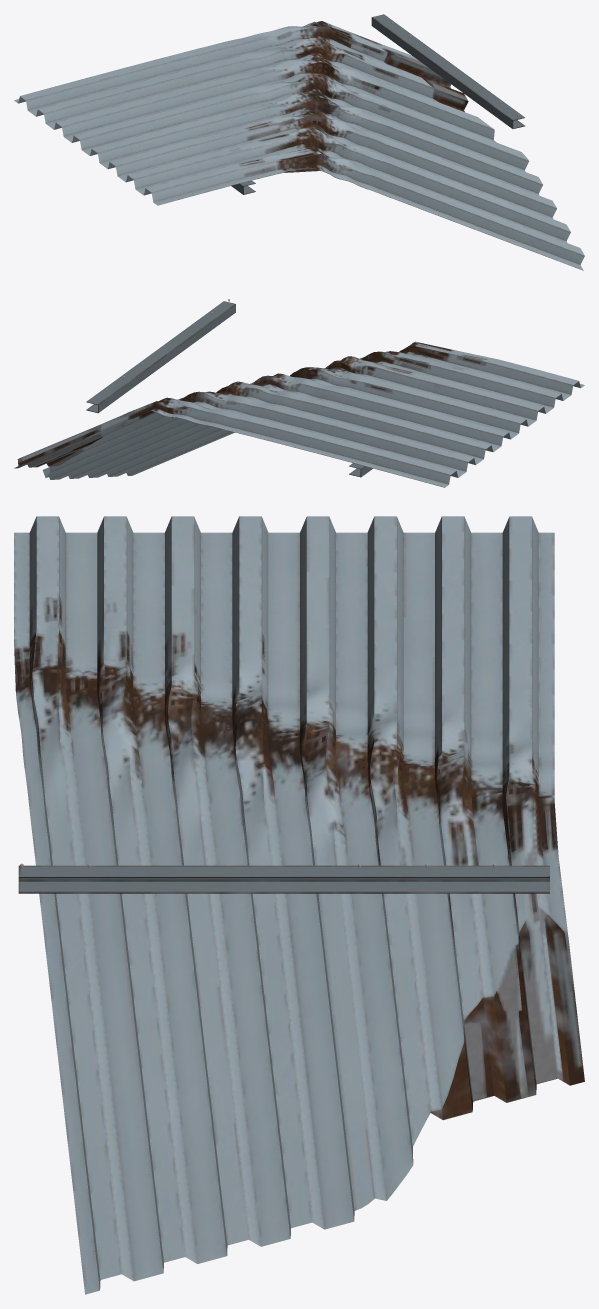
The model's file is industrial_facility_panel.glb.
3 renders of one model, top to bottom at view 1: azimuth 30°, elevation 25°; view 2: azimuth 150°, elevation 25°; view 3: azimuth 270°, elevation 25°, orthographic. The views are drawn at different scales.
Parts seen in each view (by area): view 1: industrial_facility_panel_paint; view 2: industrial_facility_panel_paint; view 3: industrial_facility_panel_paint.
Part boxes in pixels (x1,y1,x2,y2): industrial_facility_panel_paint: [14, 14, 584, 270]; industrial_facility_panel_paint: [14, 301, 584, 487]; industrial_facility_panel_paint: [14, 516, 584, 1294].
Bounding box in the file's own units: 2.23 × 0.9288 × 1.27.
Materials: 2 (1 with a texture image).
